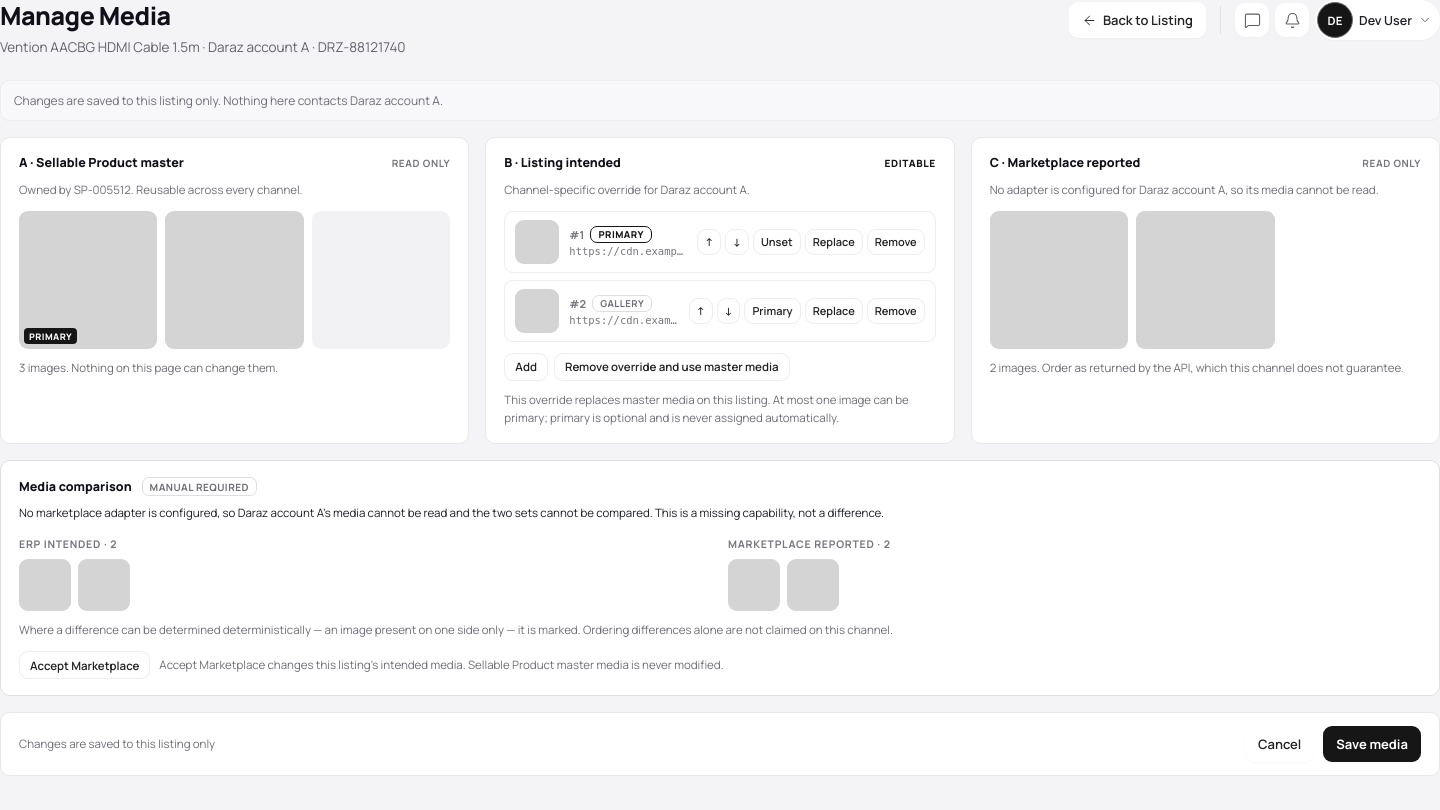
it: Frame 13 — every action is local › confirms before returning to the master set
Expected: the element with test id "media-master" is shown, [0, 137, 469, 444]
Click the button with test id "media-clear-override" at (672, 367), box [554, 353, 790, 381]
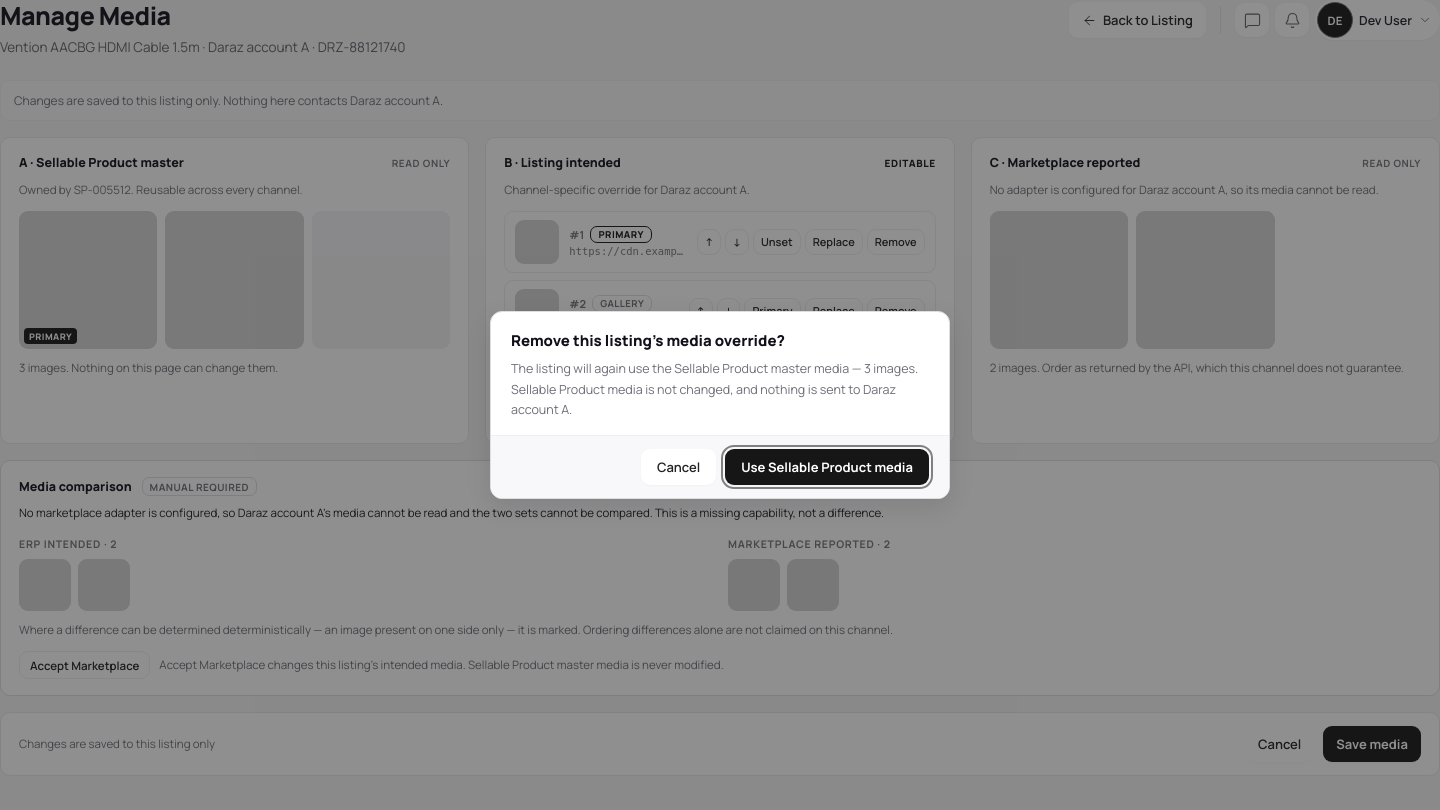
Expected: the dialog with test id "media-clear-dialog" is shown, [490, 311, 950, 499]
Expected: the dialog with test id "media-clear-dialog" shows "use the Sellable Product master media", [511, 360, 918, 418]
Expected: the dialog with test id "media-clear-dialog" shows "Sellable Product media is not changed", [511, 360, 918, 418]
